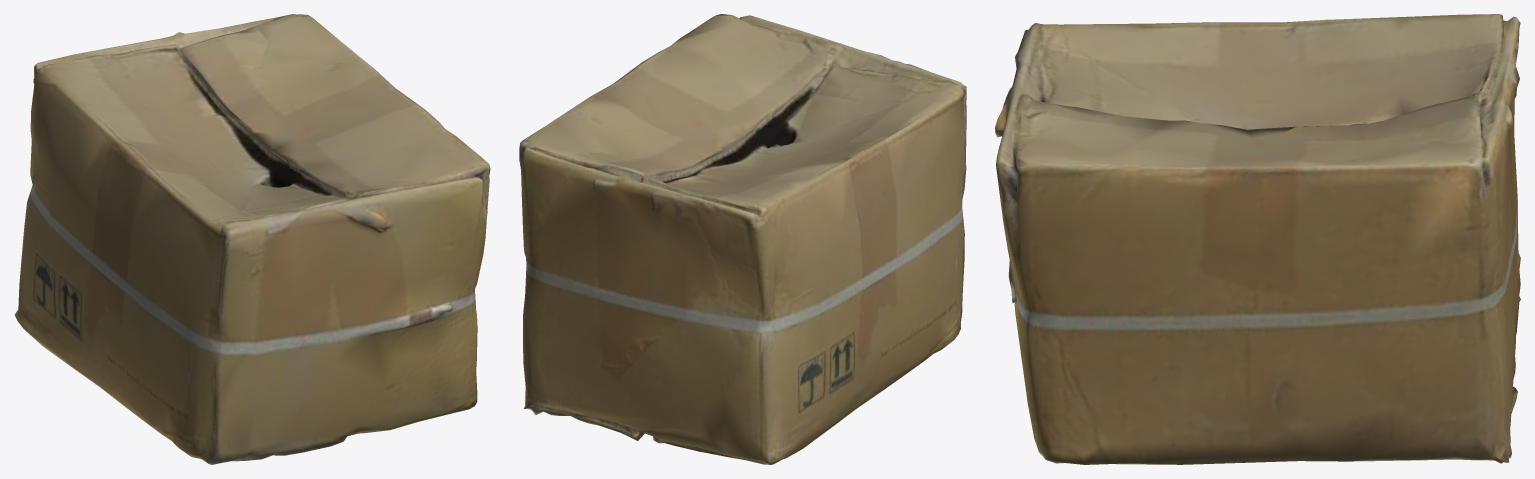
The model's file is cardboard_box.glb.
3 views of the same model, side by side, from view 1: azimuth 30°, elevation 25°; view 2: azimuth 150°, elevation 25°; view 3: azimuth 270°, elevation 25° (orthographic). The views are drawn at different scales.
Visible parts, largest first — view 1: cardboard_box_01; view 2: cardboard_box_01; view 3: cardboard_box_01.
Part boxes in pixels (x1,y1,x2,y2): cardboard_box_01: (14, 14, 490, 464); cardboard_box_01: (519, 14, 966, 464); cardboard_box_01: (995, 14, 1520, 464).
Bounding box in the file's own units: 0.3869 × 0.3418 × 0.5159.
Materials: 1 (1 with a texture image).
